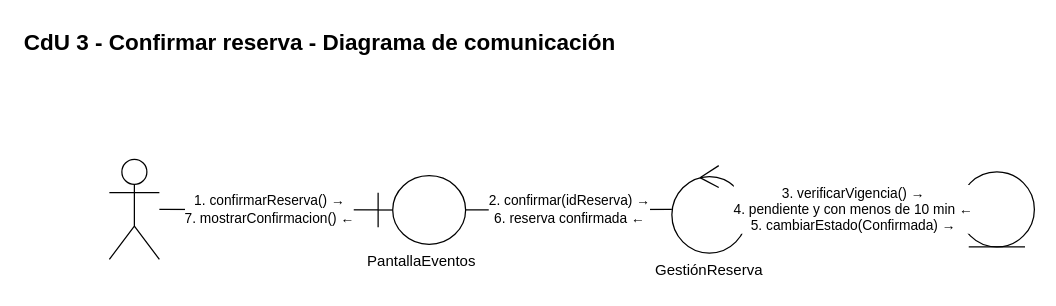
The diagram is 1056 pixels wide and 306 high, and some of its shapes have lost their labels. The shapes that lost their labels are listed below. From the top down, each one's centre as x and y in pixels, then its label:
the point at 133,208: Estudiante
the point at 996,209: Reserva
